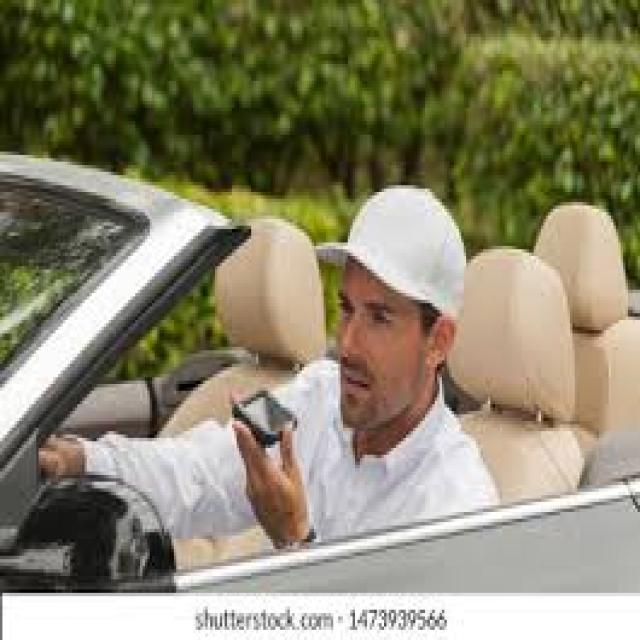cap: (307, 162, 478, 340)
